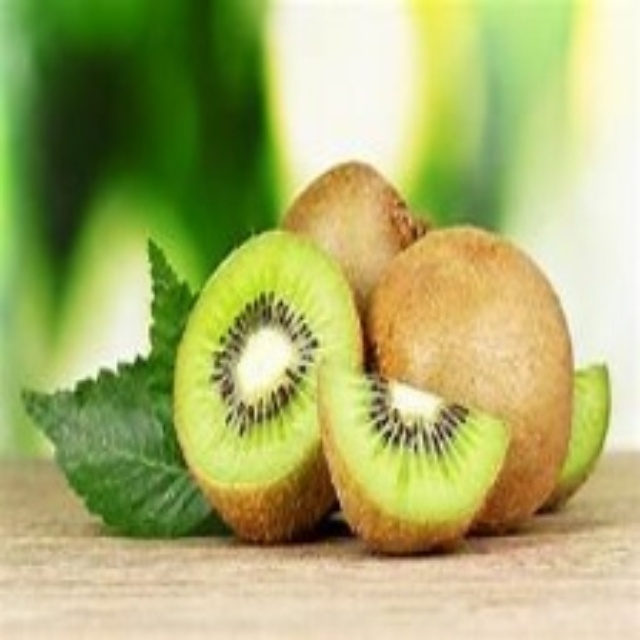kiwi: (367, 222, 612, 551), (173, 232, 377, 533), (273, 131, 441, 311)
